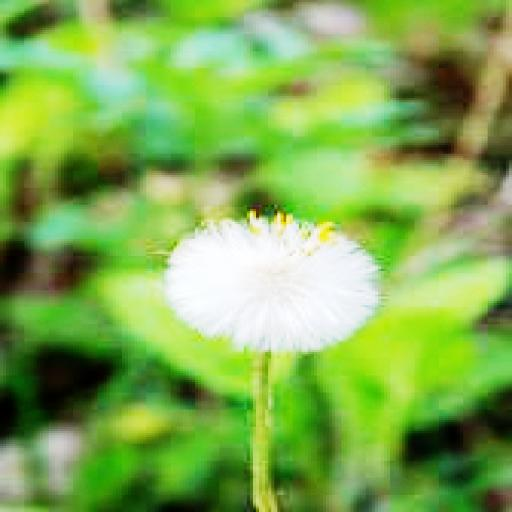dandelion: (168, 213, 378, 350)
